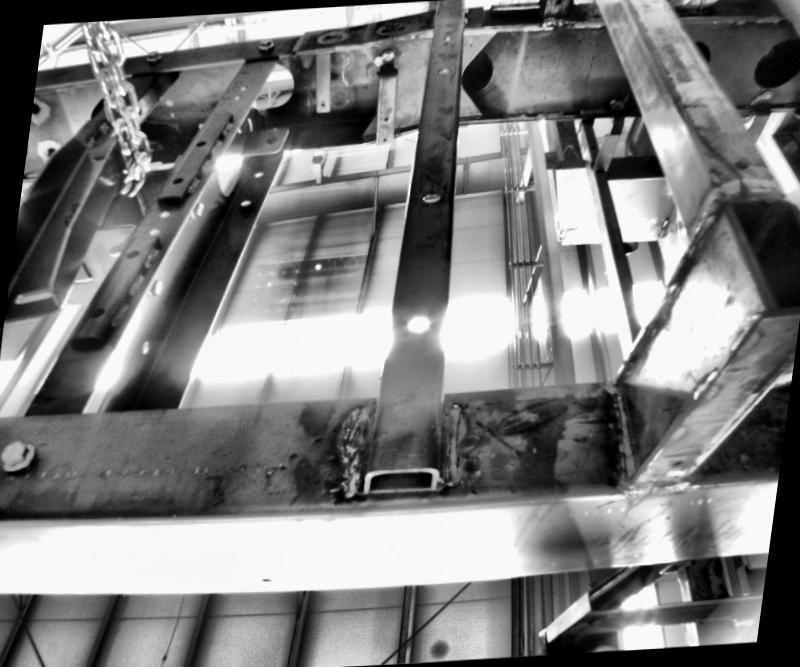bolt: (0, 439, 39, 473), (186, 198, 207, 219), (144, 278, 164, 298), (253, 37, 276, 53), (140, 50, 162, 66), (380, 50, 394, 61)
bracket: (367, 46, 401, 150), (233, 121, 292, 157), (307, 47, 336, 115), (586, 127, 626, 175)
hole: (222, 63, 299, 110), (401, 307, 433, 338), (416, 186, 442, 204), (731, 158, 750, 171), (138, 338, 150, 354), (669, 458, 682, 472), (88, 306, 103, 318), (32, 100, 42, 115), (192, 139, 206, 147), (122, 250, 136, 258), (262, 136, 275, 144), (146, 228, 160, 235), (435, 68, 451, 74), (170, 177, 182, 184), (157, 212, 168, 218), (604, 138, 615, 144), (252, 170, 262, 176), (239, 200, 248, 206), (318, 101, 326, 107), (258, 578, 270, 582), (240, 84, 247, 90), (441, 36, 451, 40), (233, 94, 241, 99), (554, 0, 563, 4), (381, 116, 387, 121), (380, 138, 387, 141)
welding: (431, 394, 477, 488), (337, 393, 361, 498)
